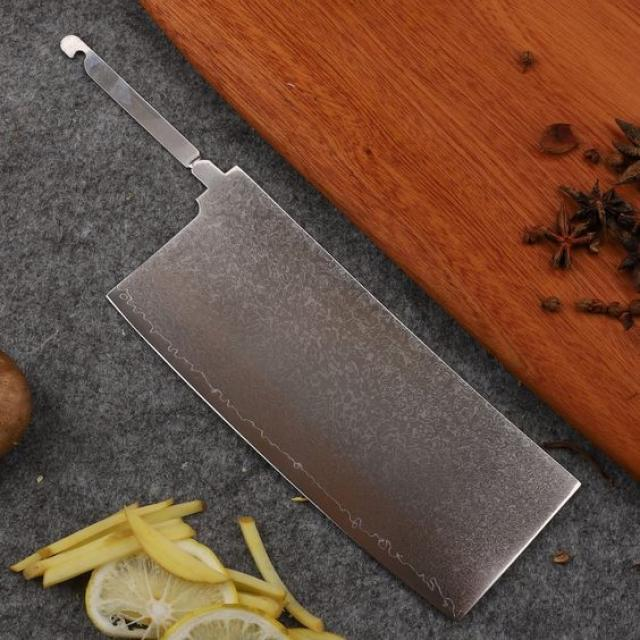cleaver: (61, 36, 575, 614)
